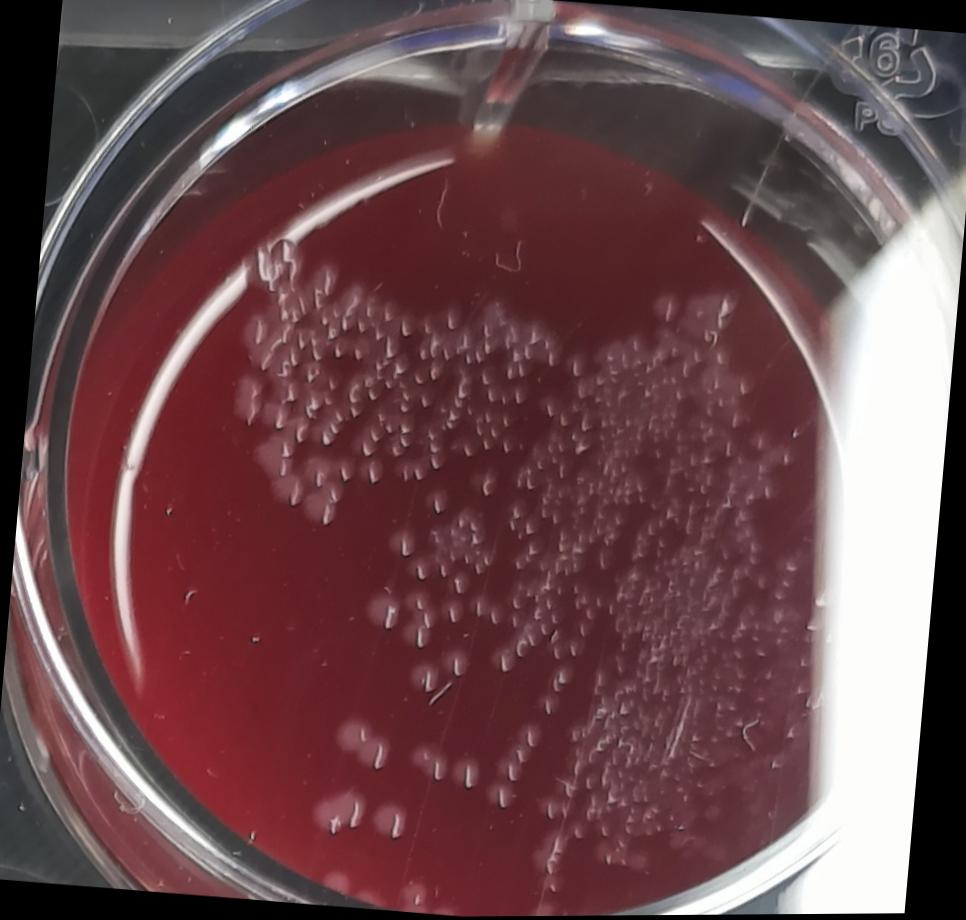pdpiscicida: (330, 717, 390, 772), (310, 785, 366, 839), (398, 588, 440, 652), (298, 478, 346, 527), (362, 584, 404, 631), (492, 743, 532, 785), (406, 746, 450, 784), (368, 801, 406, 841), (267, 471, 305, 510), (466, 594, 505, 627), (466, 464, 502, 499), (384, 525, 419, 560), (448, 756, 482, 792), (407, 662, 440, 696), (406, 552, 438, 585), (438, 647, 470, 679), (355, 456, 386, 487), (488, 643, 518, 675), (420, 485, 451, 515), (532, 390, 563, 420), (483, 780, 514, 810), (437, 597, 467, 626), (515, 722, 543, 749), (531, 692, 560, 718), (444, 571, 472, 597)
